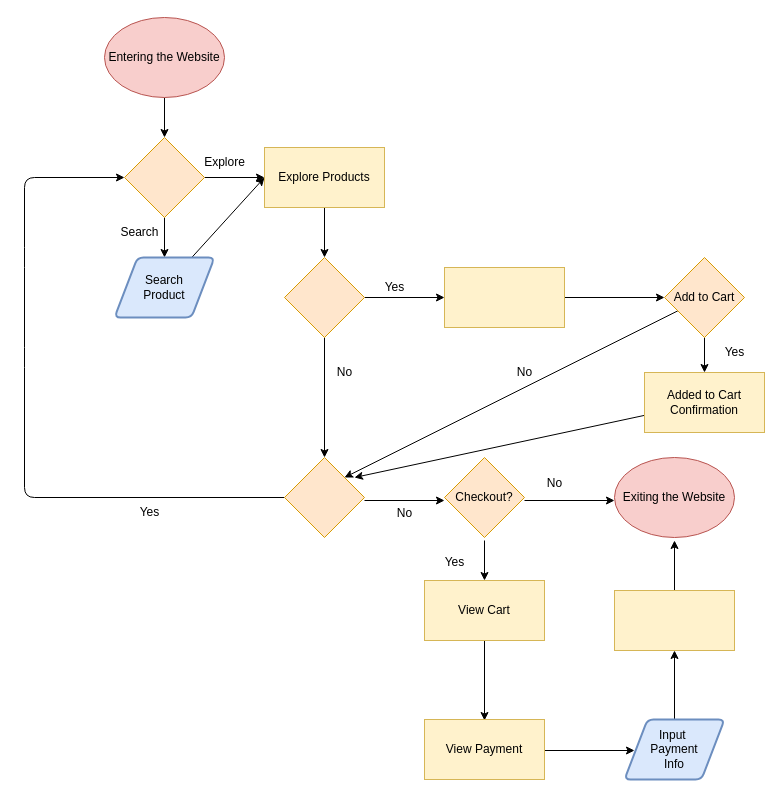
This 782x798 diagram has some shape labels left out. The shapes that lost their labels are listed below. From the top down, each one's centre as x and y in pixels, then its label:
[164,177]: Search or Explore
[324,297]: View Specific Product
[504,297]: Product's Webpage Opens
[324,497]: Continue Shopping?
[674,620]: Order Confirmation and Receive Email
